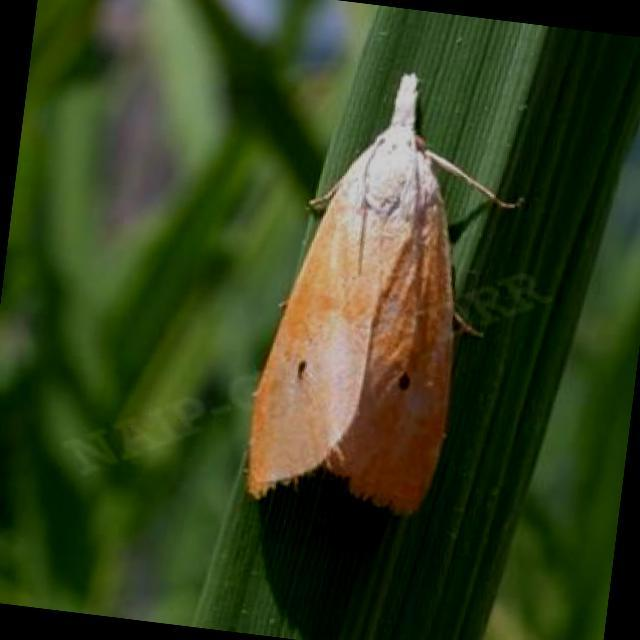stem borer: (247, 74, 519, 513)
